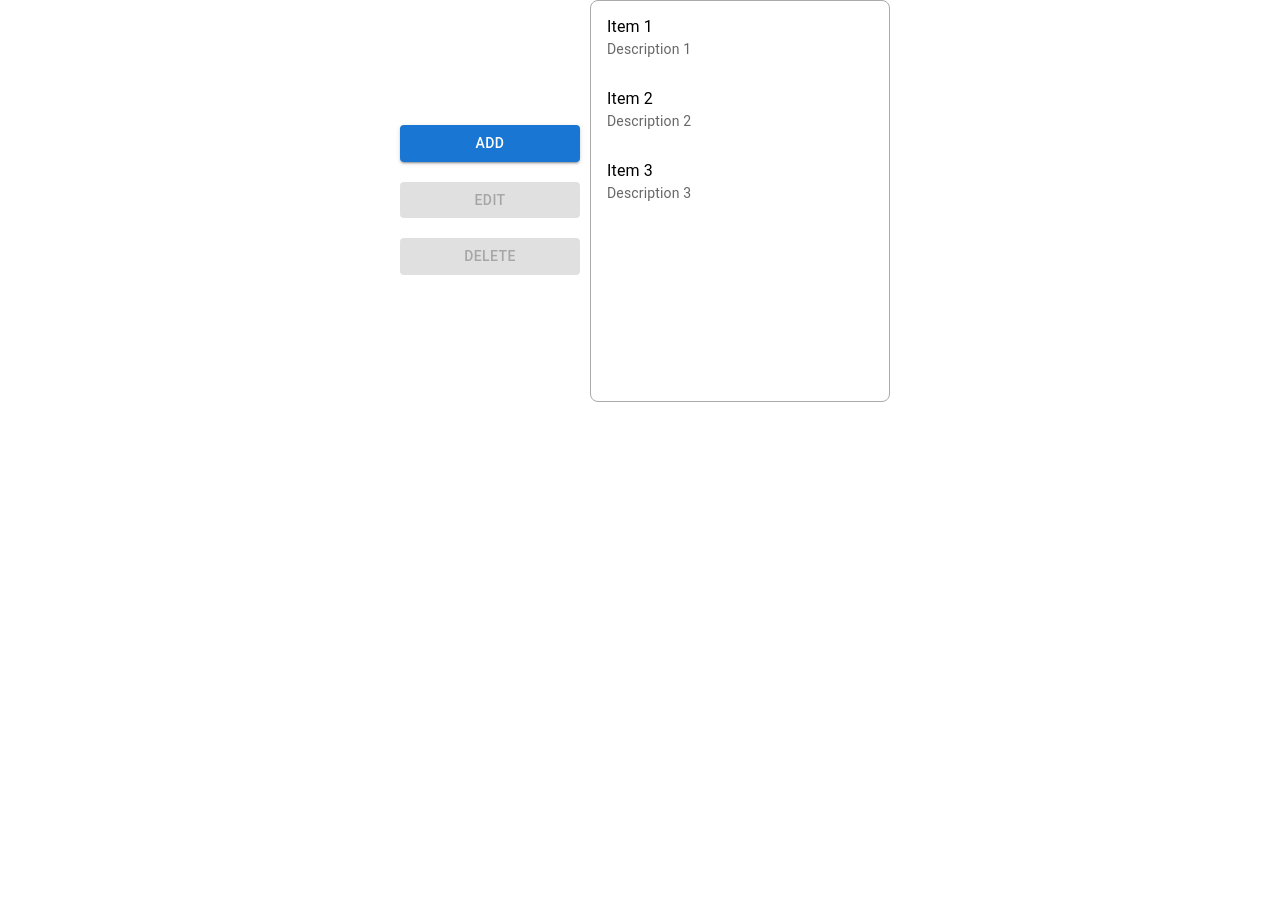
ToDoList › should open delete dialog and delete an item
Click the text "Item 1". click: [630, 26]
box: left=607, top=17, right=653, bottom=36
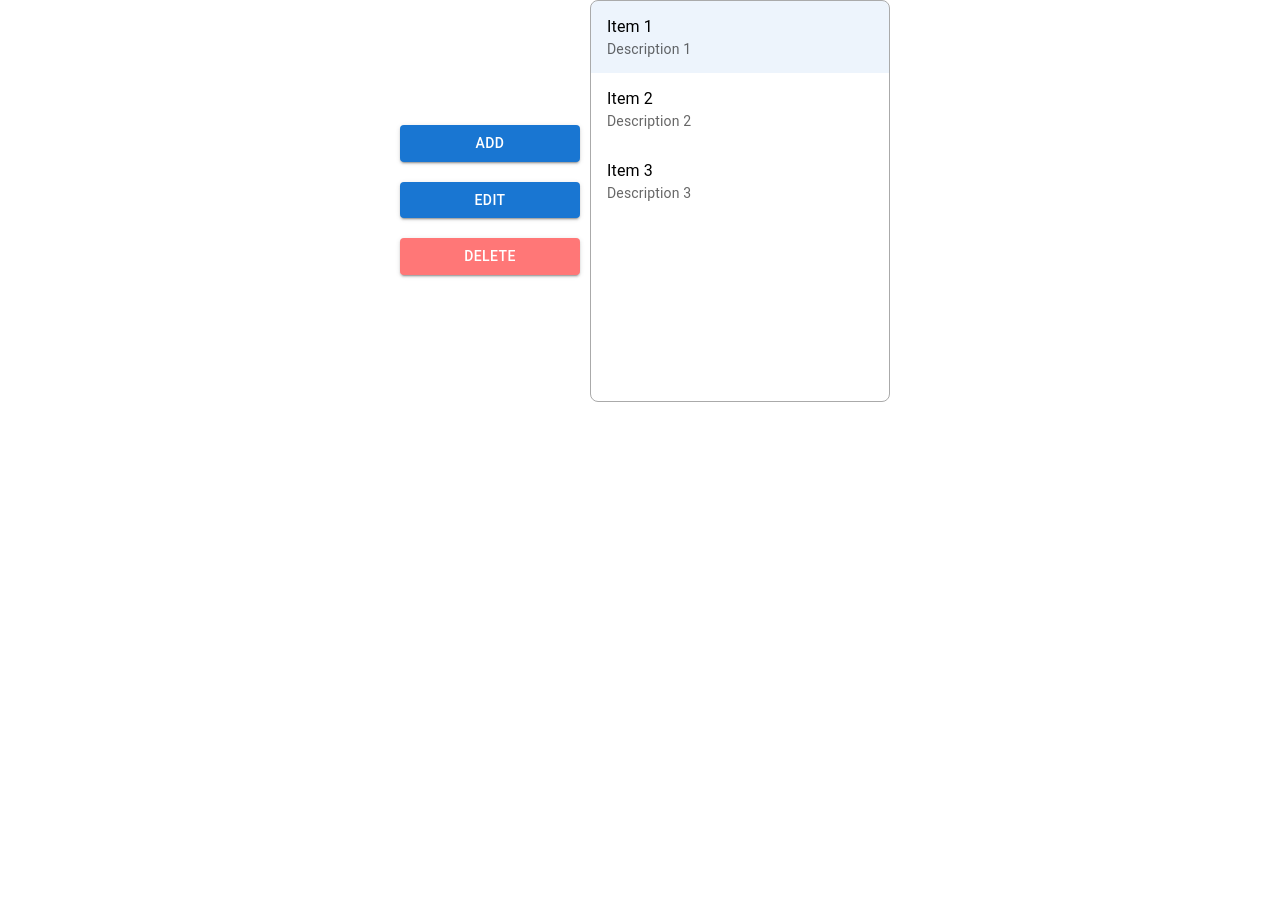
Click the button "Delete". click: [490, 257]
box: left=400, top=238, right=580, bottom=275
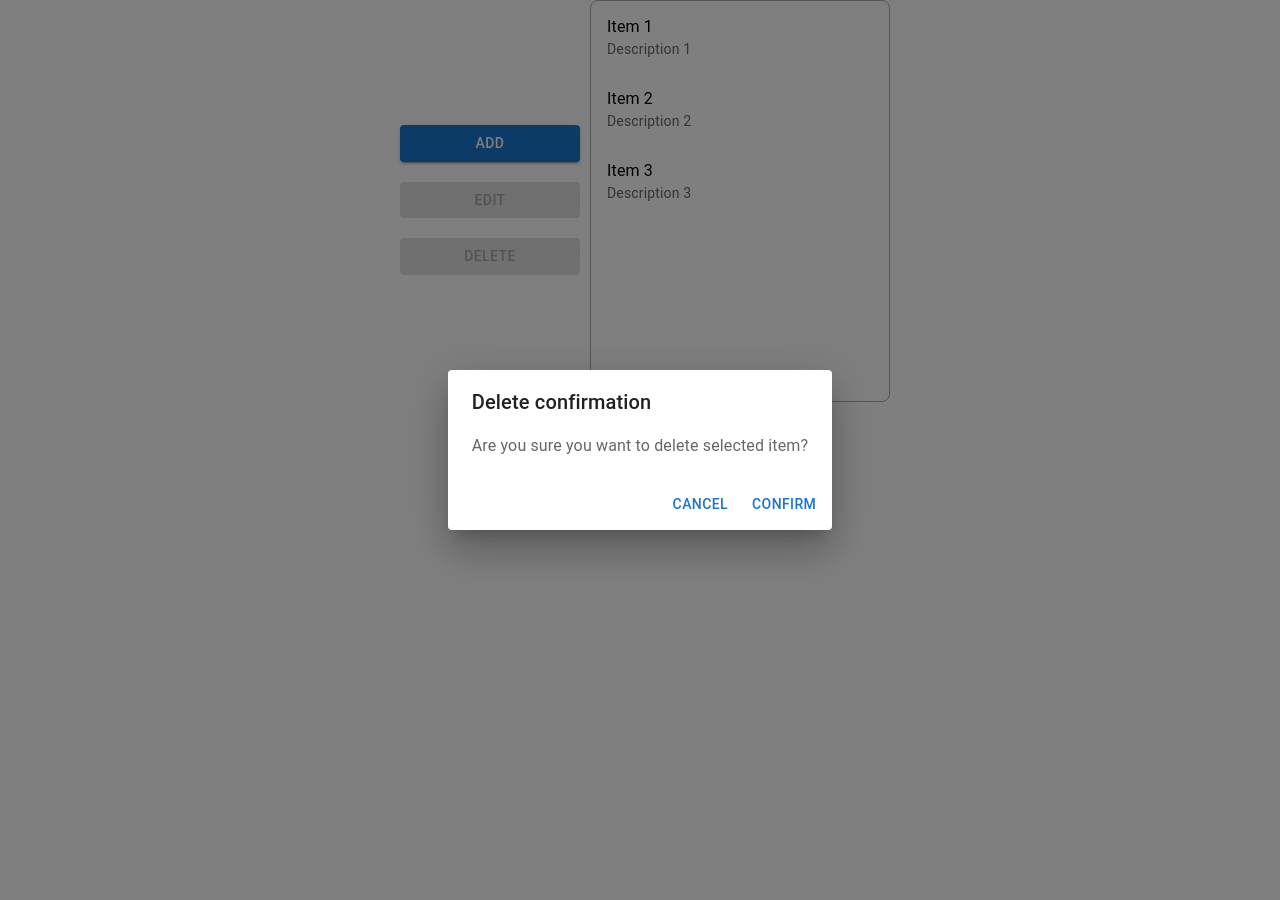
expect the dialog is shown: met, box left=448, top=370, right=832, bottom=530
Click the button "Confirm". click: [784, 504]
box: left=744, top=486, right=824, bottom=522
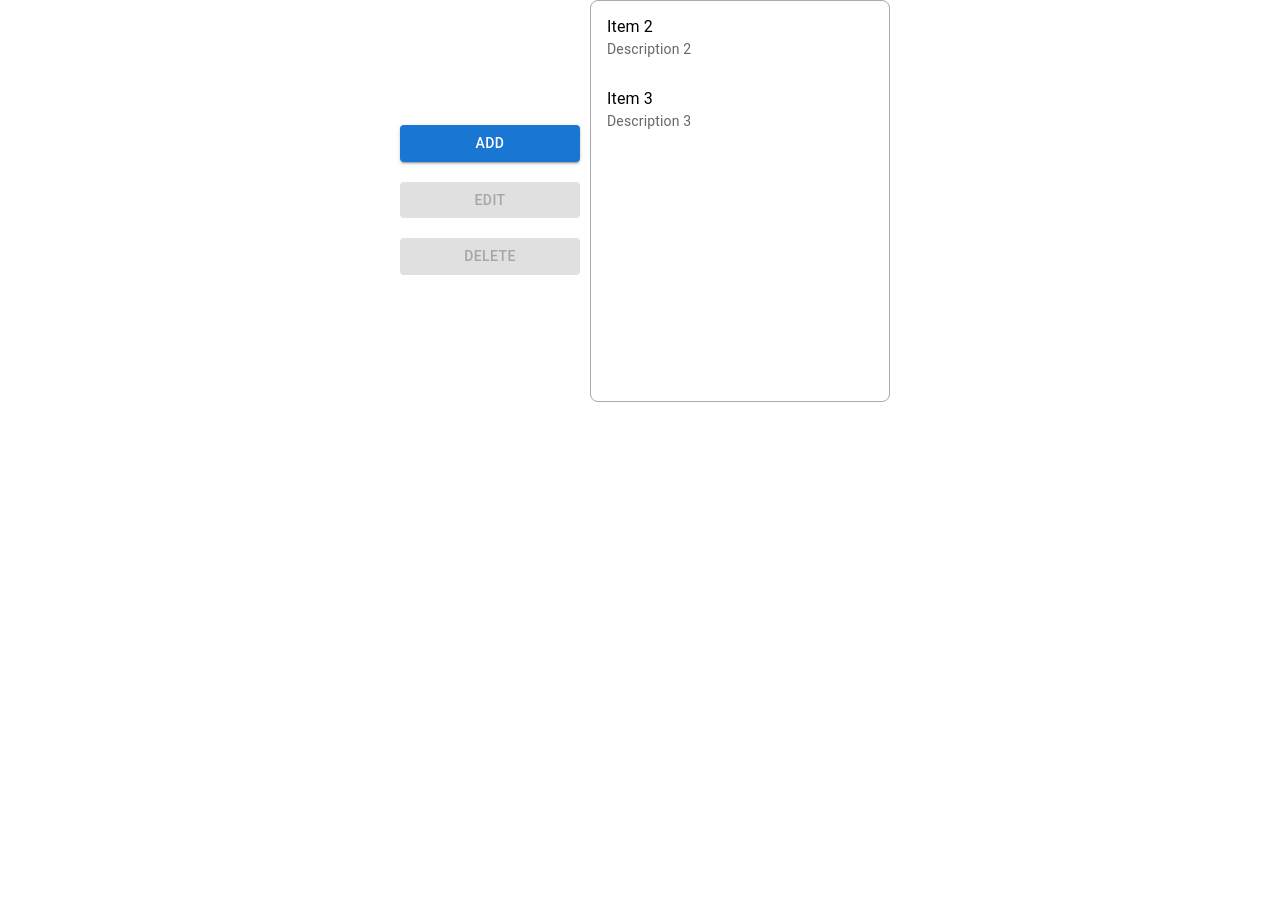
expect the button "Item 1" is gone: met
